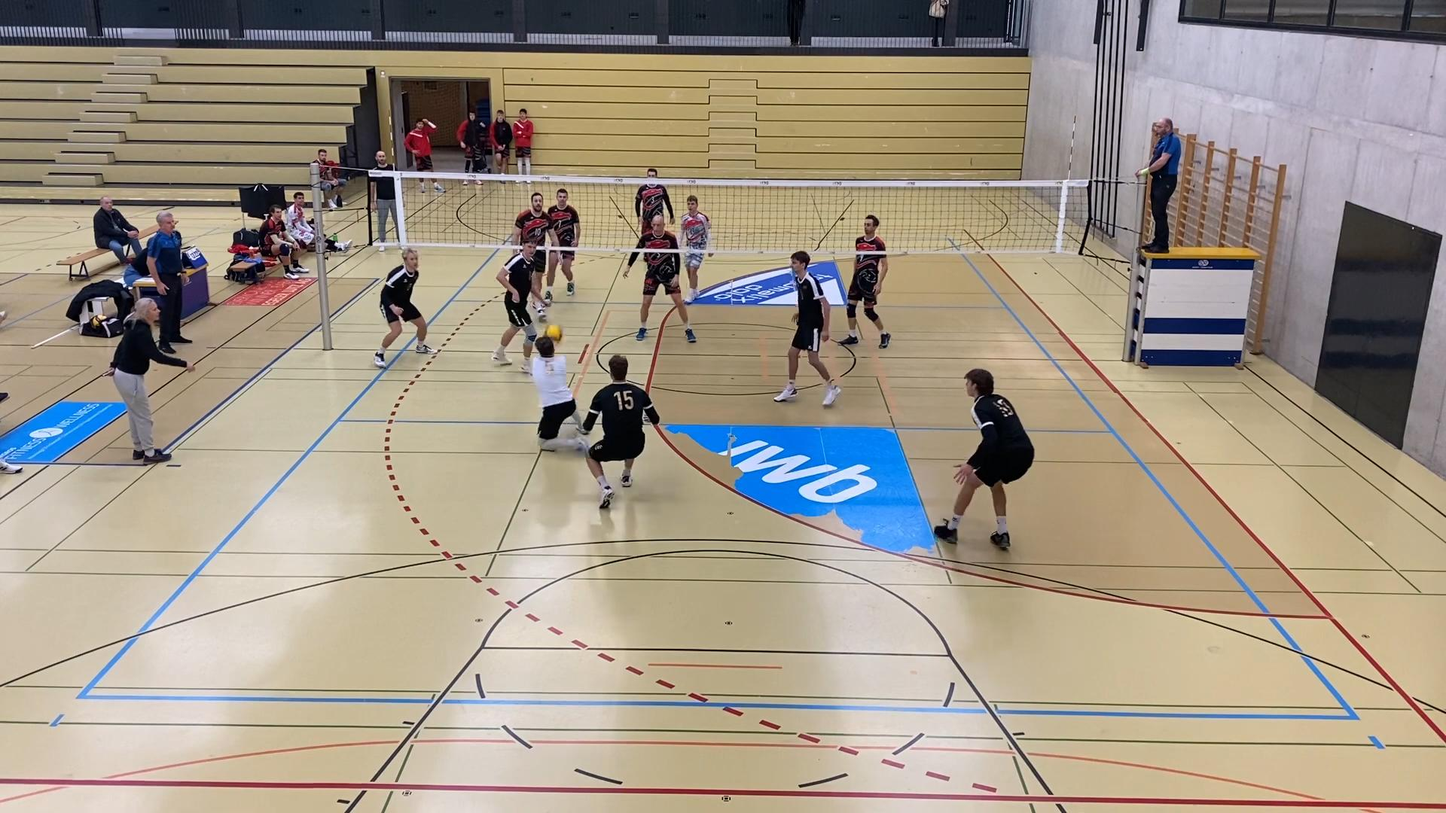ricezione: (524, 335, 596, 460)
